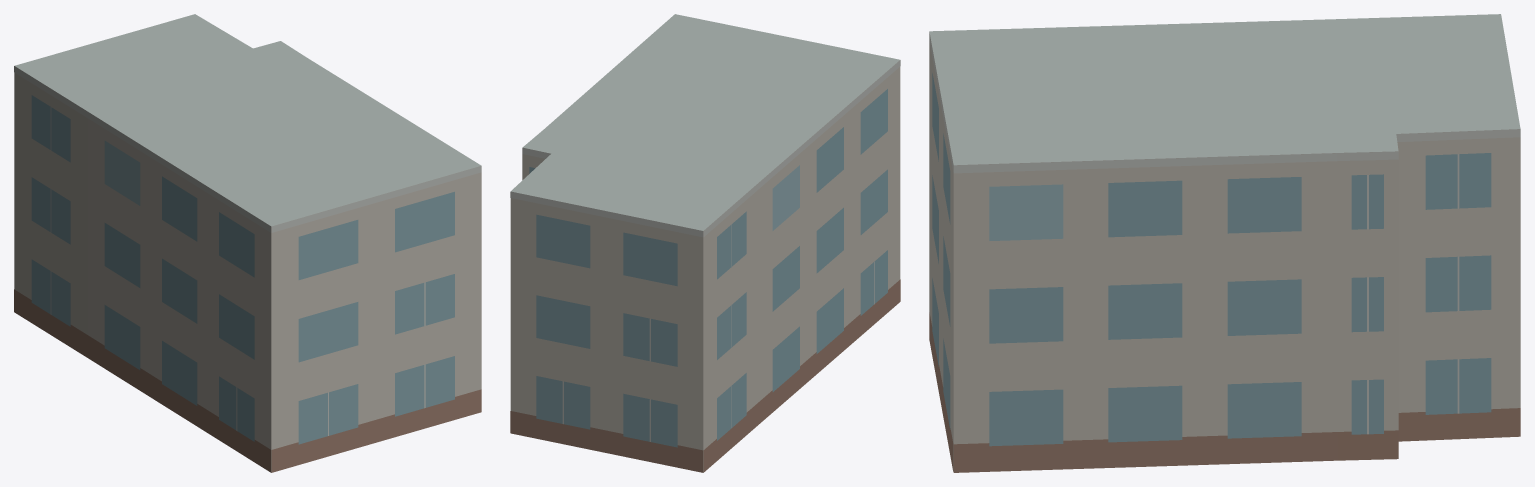
The model's file is survey-upis-32927287.glb.
3 renders of one model, left to right at view 1: azimuth 30°, elevation 25°; view 2: azimuth 150°, elevation 25°; view 3: azimuth 270°, elevation 25°, orthographic. The views are drawn at different scales.
Parts seen in each view (by area): view 1: survey-upis-32927287.tmp; view 2: survey-upis-32927287.tmp; view 3: survey-upis-32927287.tmp.
Part boxes in pixels (box(x1,y1,x2,y2)): survey-upis-32927287.tmp: box(14, 14, 481, 472); survey-upis-32927287.tmp: box(510, 14, 900, 472); survey-upis-32927287.tmp: box(929, 14, 1520, 472).
Size of the model in its own units: 9.66 by 9.15 by 15.95.
